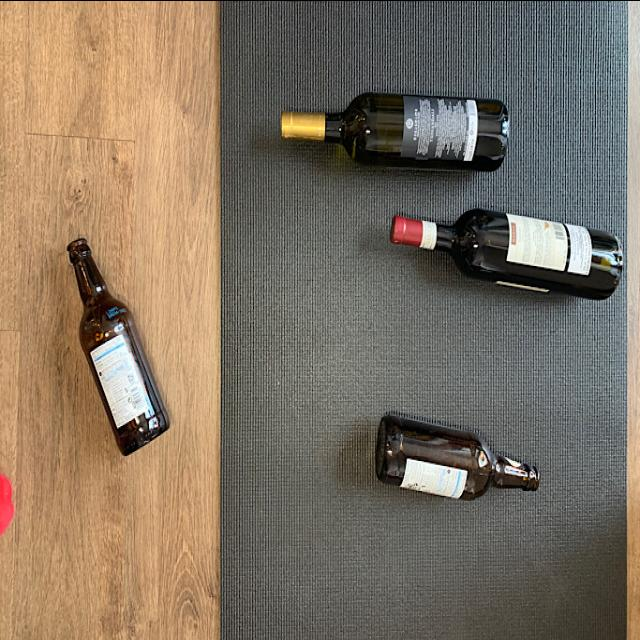Glass Bottle: (391, 197, 628, 305), (64, 232, 172, 458), (279, 92, 512, 176), (371, 410, 547, 505)
